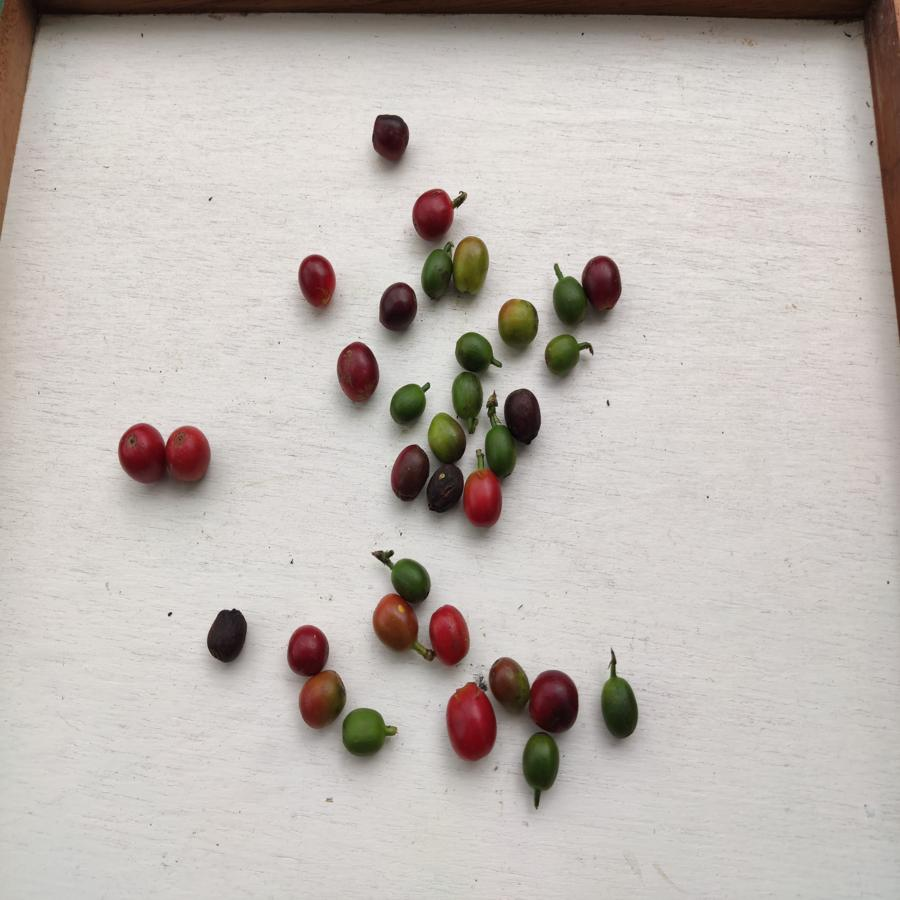Inmaduro: (599, 673, 640, 740), (521, 733, 559, 795), (343, 708, 386, 756), (388, 555, 432, 600), (418, 246, 452, 301), (552, 274, 587, 325), (449, 372, 485, 421), (454, 328, 494, 372), (542, 335, 588, 373), (387, 384, 427, 425), (483, 427, 515, 472), (431, 412, 458, 459)
Maduro: (445, 682, 500, 763), (116, 419, 166, 487), (166, 421, 212, 485), (428, 603, 471, 668), (410, 185, 457, 241), (462, 469, 501, 527), (287, 620, 328, 674), (298, 252, 335, 311)
Pinton: (295, 670, 346, 728), (371, 595, 420, 655), (491, 656, 531, 713), (496, 295, 539, 347), (453, 235, 488, 297)
Sobremaduro: (531, 667, 582, 732), (336, 338, 381, 403), (205, 605, 249, 665), (583, 254, 625, 312), (503, 386, 543, 445), (391, 443, 428, 505), (375, 279, 418, 332), (370, 111, 412, 162), (428, 463, 463, 512)
